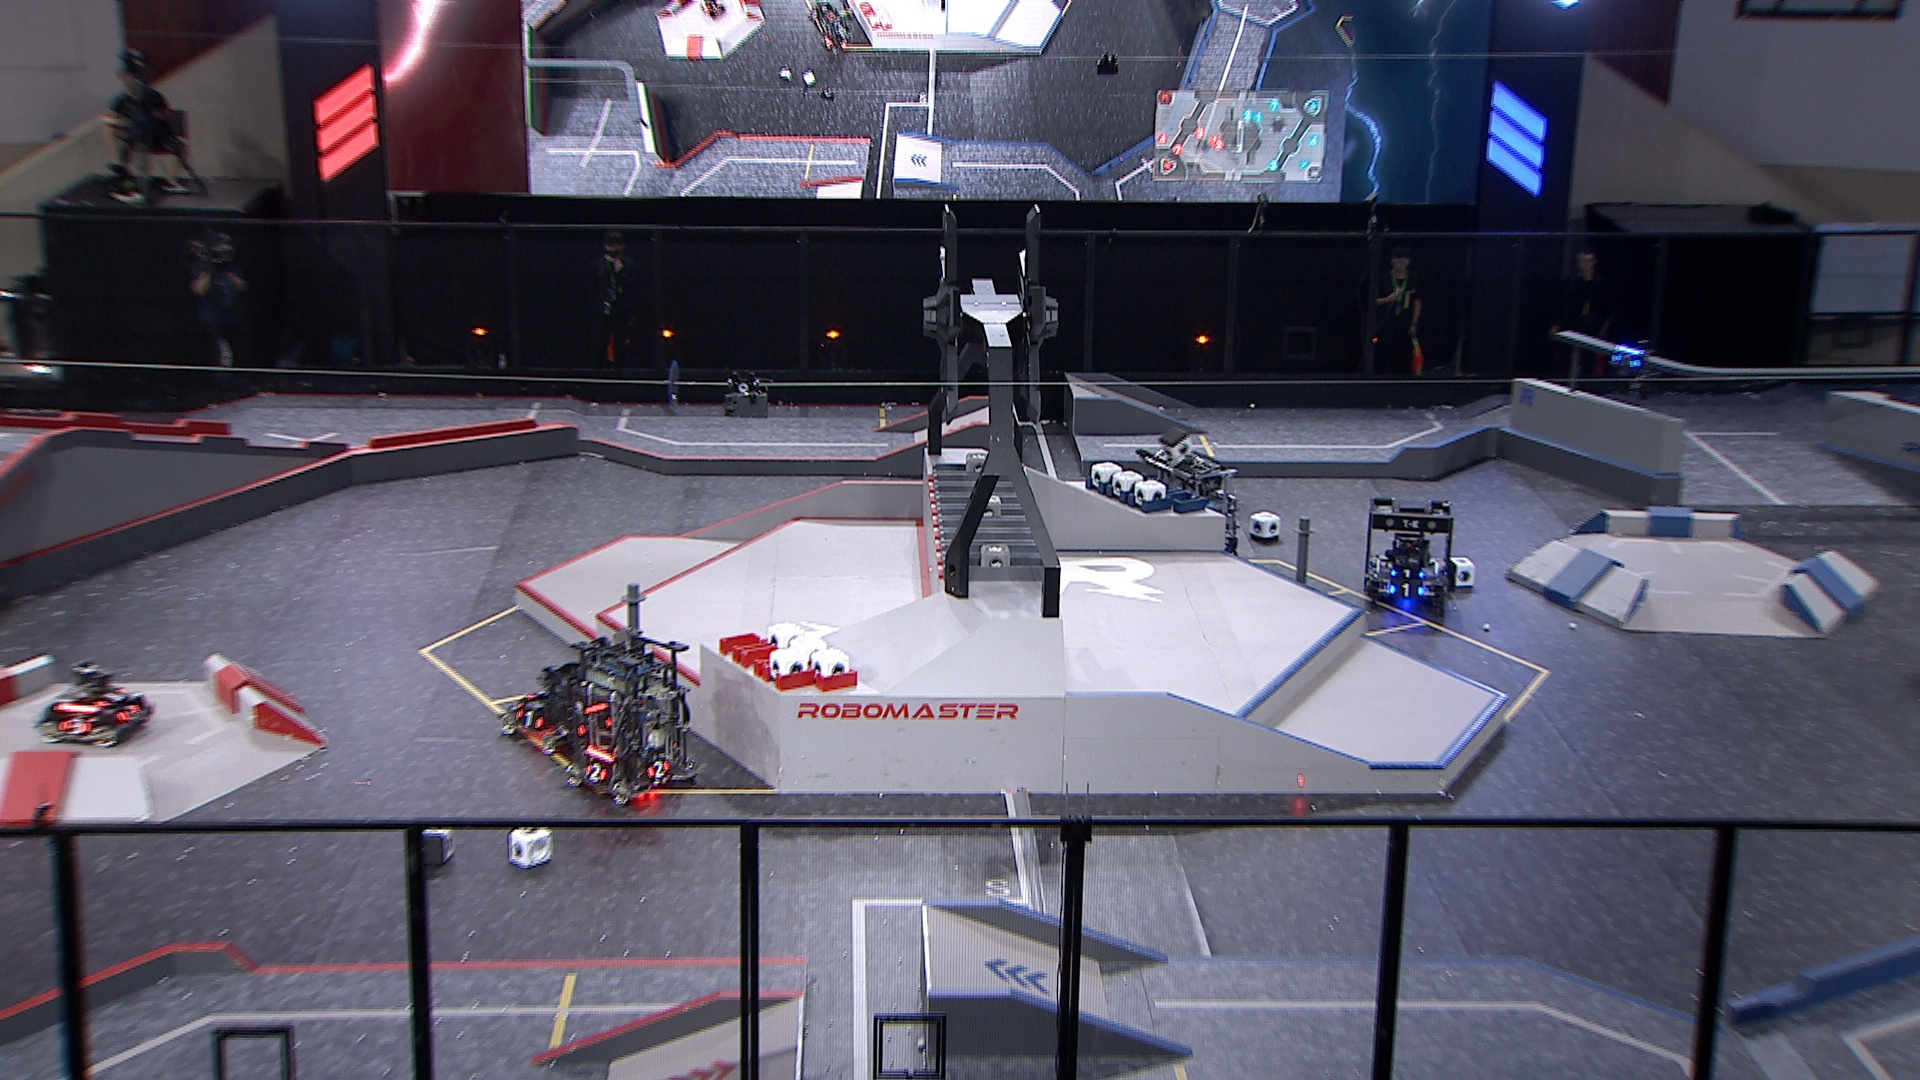armor: (96, 687, 131, 709), (58, 717, 94, 737), (516, 709, 547, 731), (1389, 566, 1425, 583), (1389, 583, 1425, 600), (585, 760, 609, 785), (646, 760, 673, 781), (116, 703, 144, 723), (1610, 353, 1642, 371)
car: (566, 632, 707, 807), (1135, 442, 1242, 564), (495, 659, 615, 757), (40, 659, 157, 752), (1364, 498, 1462, 605)
ignore: (823, 15, 855, 50), (807, 1, 844, 32), (698, 0, 727, 18)
watcher: (1609, 342, 1662, 394)
